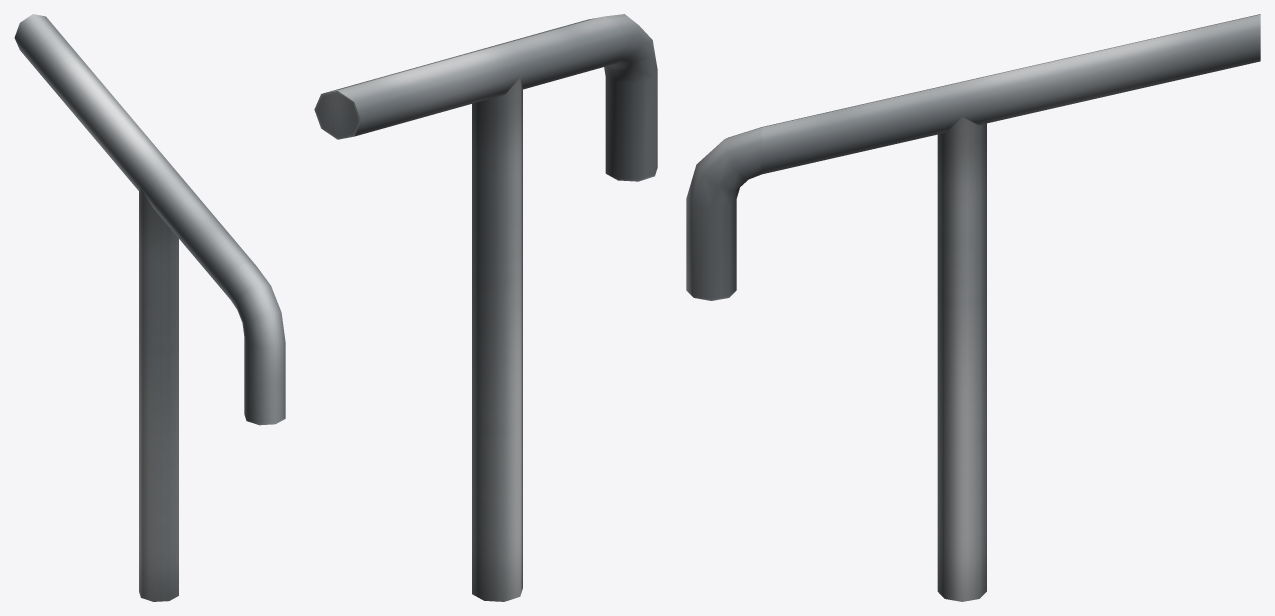
File: set_handrail_slope_end.fbx
3 views of the same model, side by side, from view 1: azimuth 30°, elevation 25°; view 2: azimuth 150°, elevation 25°; view 3: azimuth 270°, elevation 25° (orthographic). The views are drawn at different scales.
Visible parts, largest first — view 1: set_handrail_slope_end; view 2: set_handrail_slope_end; view 3: set_handrail_slope_end.
Part boxes in pixels (left/top/right/bottom): set_handrail_slope_end: left=14, top=14, right=285, bottom=601; set_handrail_slope_end: left=314, top=14, right=657, bottom=601; set_handrail_slope_end: left=686, top=14, right=1260, bottom=601.
Bounding box in the file's own units: 6.29 × 79.33 × 71.61.
